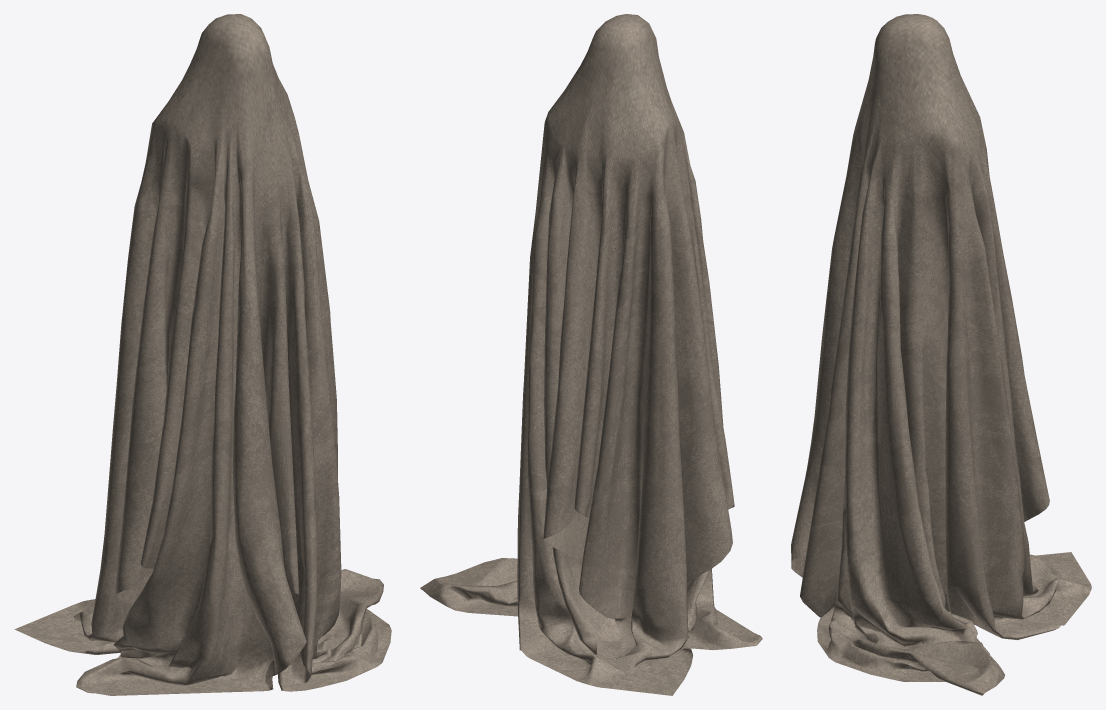
The model's file is ghost.glb.
The picture shows the model from 3 angles, left to right: view 1: azimuth 30°, elevation 25°; view 2: azimuth 150°, elevation 25°; view 3: azimuth 270°, elevation 25°; orthographic projection. The views are drawn at different scales.
Visible parts, largest first — view 1: 02_02_0; view 2: 02_02_0; view 3: 02_02_0.
Part boxes in pixels (x1,y1,x2,y2): 02_02_0: (14, 14, 391, 695); 02_02_0: (420, 14, 762, 695); 02_02_0: (791, 14, 1091, 695).
Bounding box in the file's own units: 1.26 × 2.31 × 1.05.
Materials: 1 (1 with a texture image).
